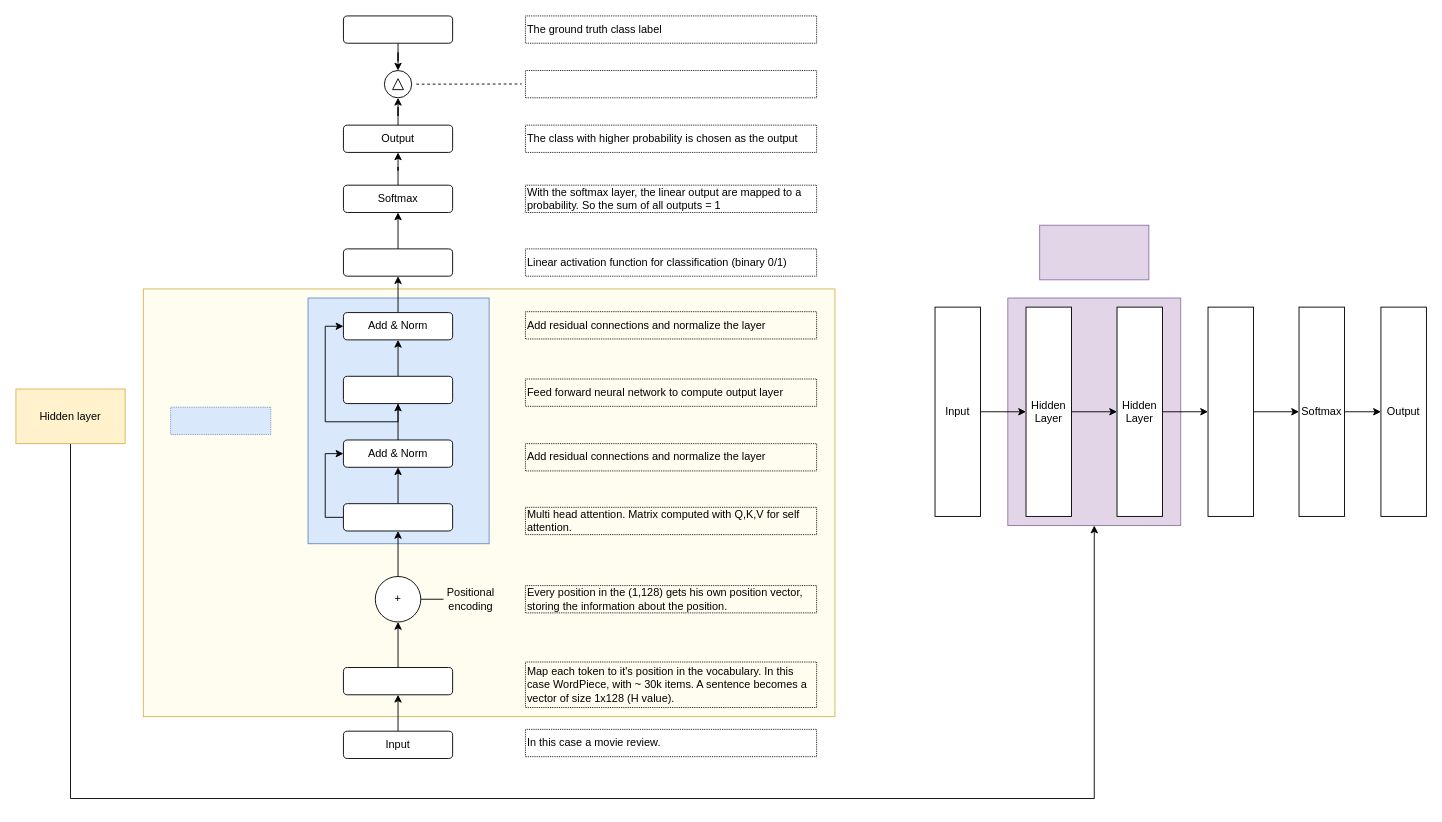
Image size: 1442x822. Some labels were removed from this diagram. The shapes that lost their labels are listed below. From the top down, each one's centre as x and y in pixels, then its label:
At (398,29): "Target".
At (671,84): "Compute the loss and update the weights through back propagation".
At (398,262): "Linear".
At (1094,252): "2 Transformer blocks (as hidden layers)".
At (398,389): "Feed Forward".
At (220,420): "Transformer-block".
At (1230,411): "Linear Layer".
At (398,517): "Multi Head attention".
At (398,681): "Input Embedding".
